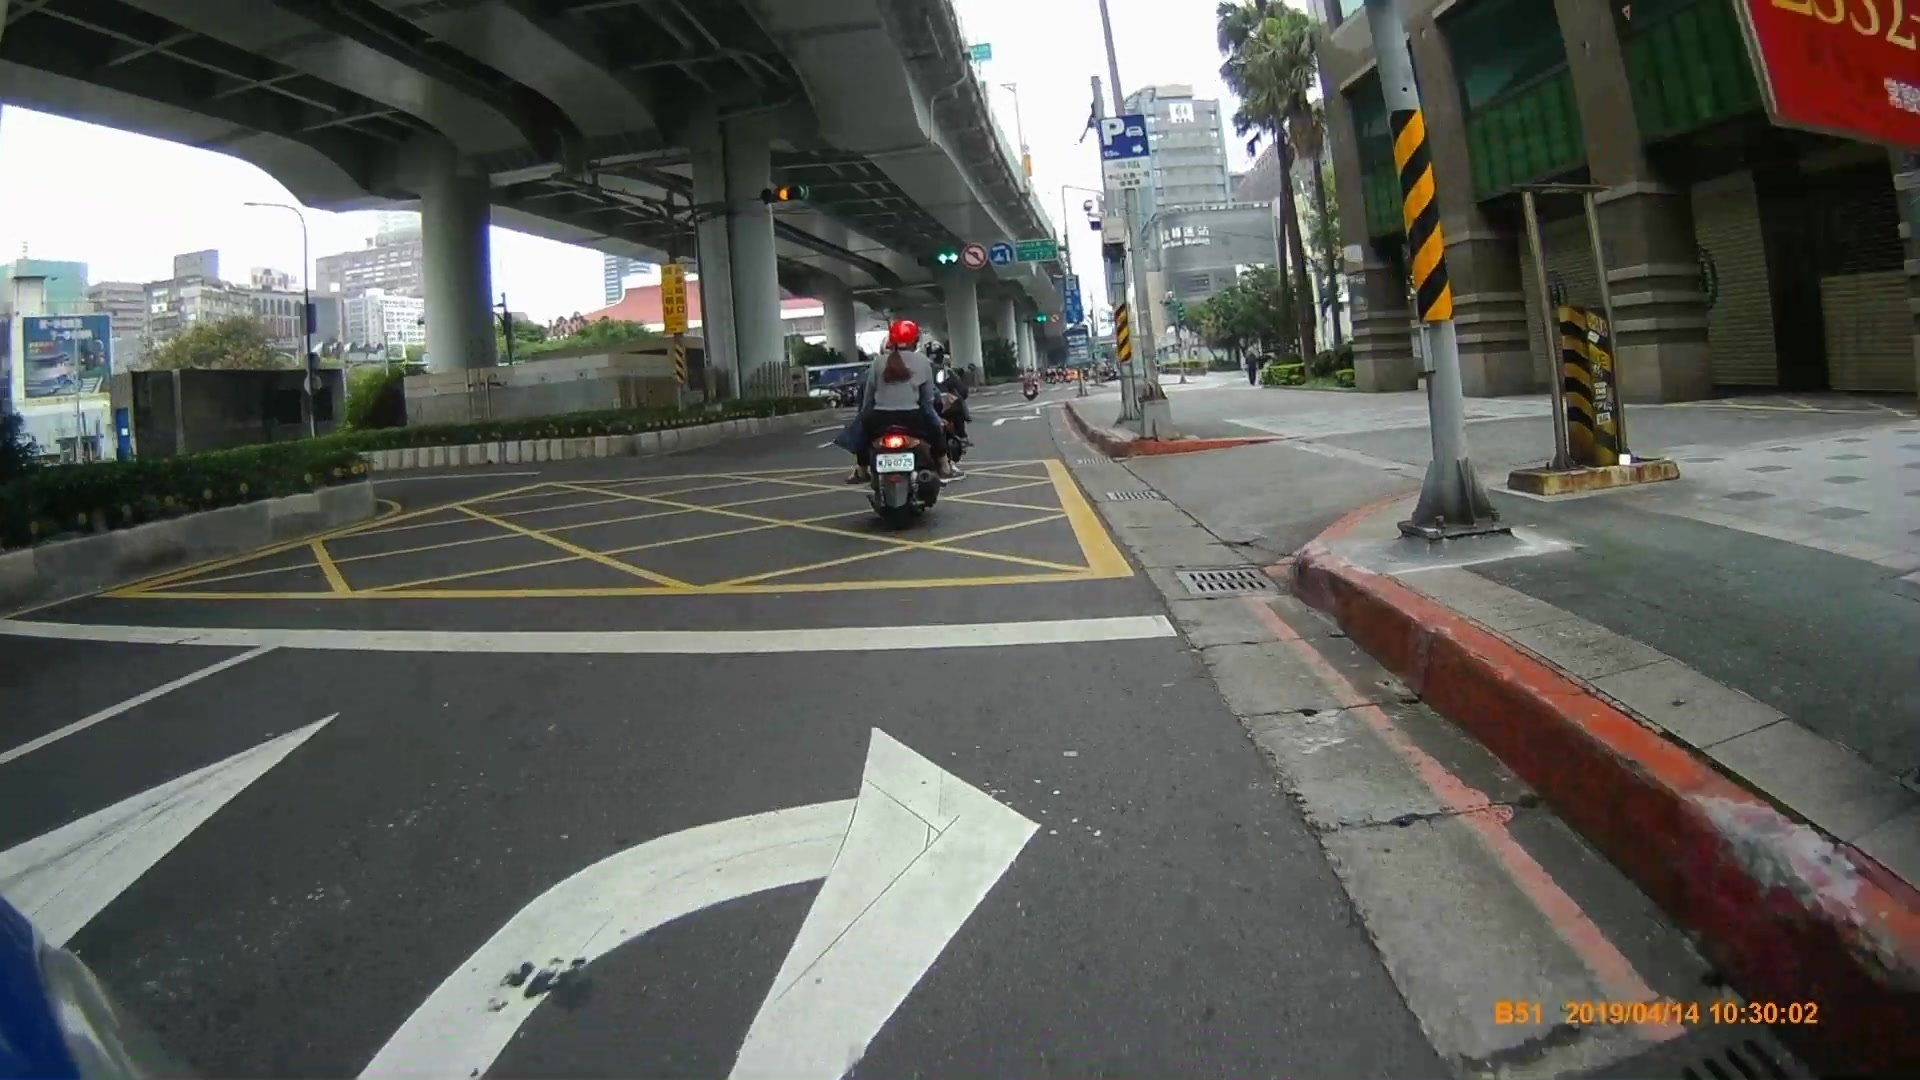License_plate: (875, 455, 912, 471)
